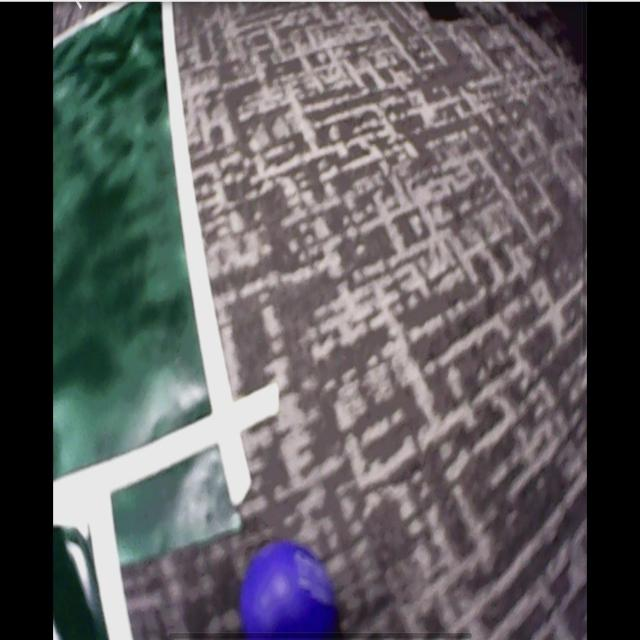ball: (240, 545, 340, 640)
